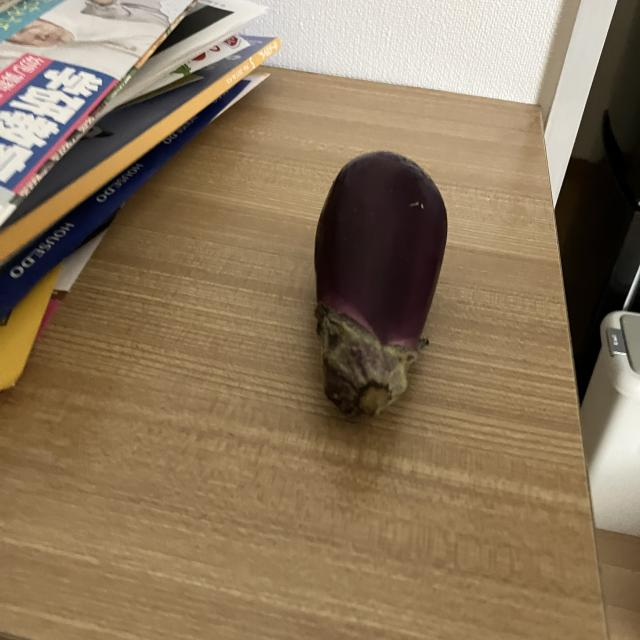eggplant: (309, 148, 453, 427)
